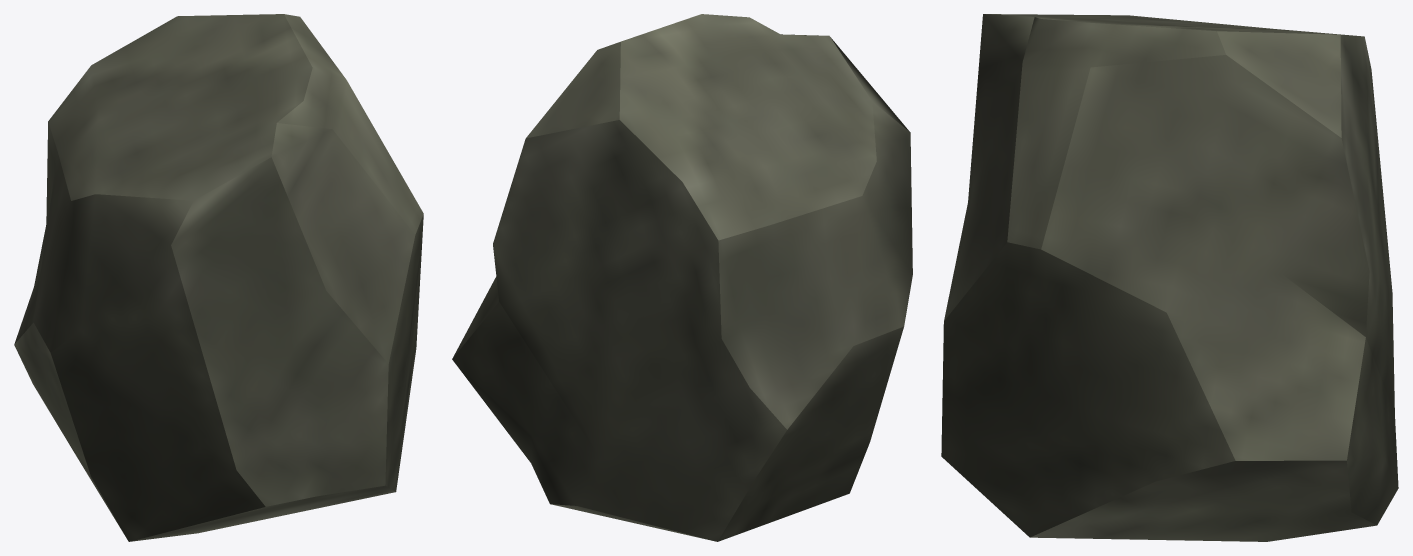
File: Rock_06.fbx
3 views of the same model, side by side, from view 1: azimuth 30°, elevation 25°; view 2: azimuth 150°, elevation 25°; view 3: azimuth 270°, elevation 25° (orthographic). The views are drawn at different scales.
Visible parts, largest first — view 1: Rock_06; view 2: Rock_06; view 3: Rock_06.
Part boxes in pixels (x1=…): Rock_06: x1=14, y1=14, x2=423, y2=541; Rock_06: x1=452, y1=14, x2=912, y2=541; Rock_06: x1=941, y1=14, x2=1398, y2=541.
Bounding box in the file's own units: 174 × 201 × 153.
1 material, 1 textured.
